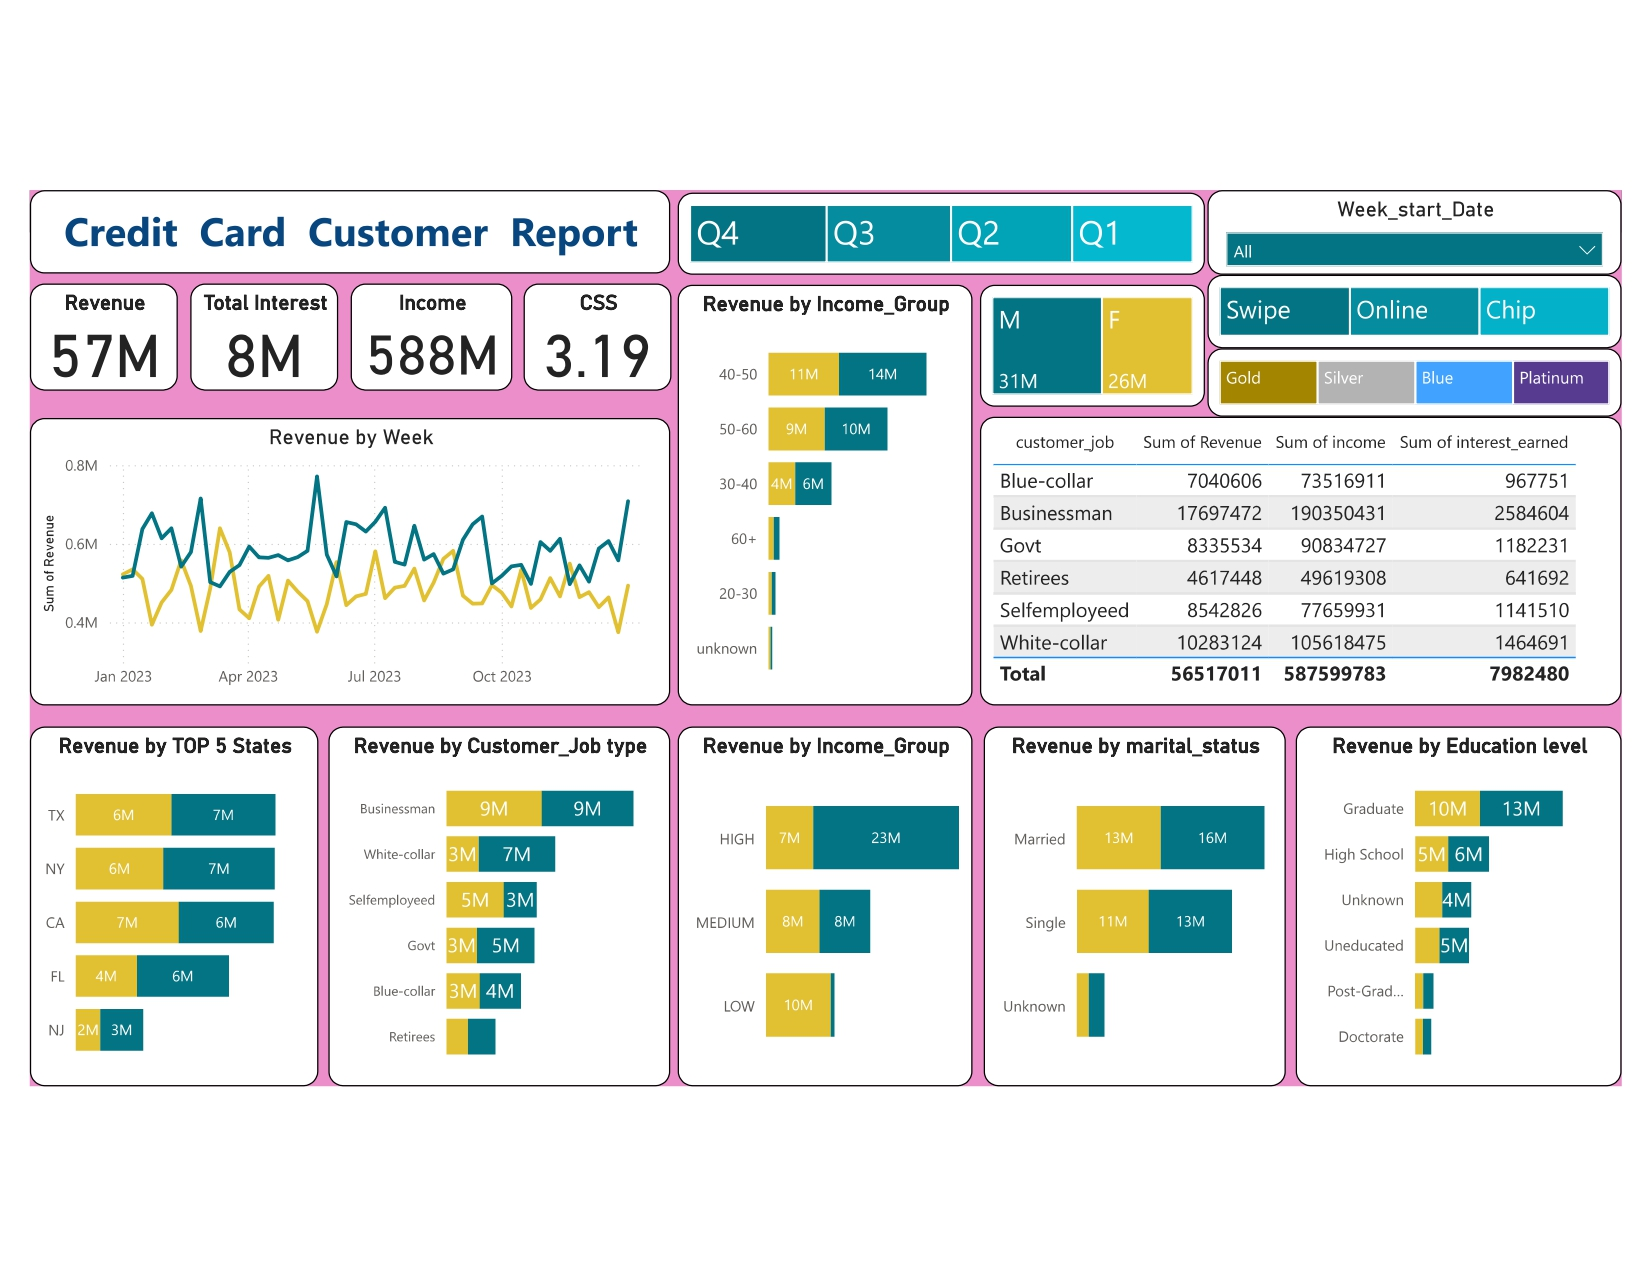

Layout of this report page (visuals, bound fields, positions):
{"tool":"powerbi","page":{"name":"CC Customer","canvas":[1280,720],"ordinal":1},"visuals":[{"type":"textbox","box":[0,0,514.6,67.2],"z":0},{"type":"tableEx","fields":{"Values":["public cust_detail.customer_job","Sum(public cc_detail.Revenue)","Sum(public cust_detail.income)","Sum(public cc_detail.interest_earned)"]},"box":[763.7,182.2,516.4,231.6],"z":1000},{"type":"card","title":"Revenue","fields":{"Values":["Sum(public cc_detail.Revenue)"]},"box":[0,75.5,119.4,85.1],"z":2000},{"type":"card","title":"Total Interest","fields":{"Values":["Sum(public cc_detail.interest_earned)"]},"box":[129,75.5,119.4,85.1],"z":3000},{"type":"card","title":"Income","fields":{"Values":["Sum(public cust_detail.income)"]},"box":[258,75.5,130.4,85.1],"z":4000},{"type":"card","title":"CSS","fields":{"Values":["Avg(public cust_detail.cust_satisfaction_score)"]},"box":[396.6,75.5,119.4,85.1],"z":5000},{"type":"barChart","title":"Revenue by marital_status","fields":{"Y":["Sum(public cc_detail.Revenue)"],"Category":["public cust_detail.marital_status"],"Series":["public cust_detail.gender"]},"box":[767.3,430.7,242.5,289.5],"z":6000},{"type":"treemap","fields":{"Group":["public cc_detail.qtr"],"Values":["Avg(public cc_detail.client_num)"]},"box":[521.2,2.4,423.5,65.1],"z":7000},{"type":"treemap","fields":{"Group":["public cc_detail.card_category"],"Values":["Avg(public cc_detail.client_num)"]},"box":[947.1,126.7,333,55.5],"z":9000},{"type":"treemap","fields":{"Group":["public cc_detail.use_chip"],"Values":["Avg(public cc_detail.client_num)"]},"box":[947.1,67.6,333,59.1],"z":10000},{"type":"slicer","title":"Week_start_Date","fields":{"Values":["public cc_detail.week_start_date"]},"box":[947.1,0,333,67.6],"z":11000},{"type":"lineChart","title":"Revenue by Week","fields":{"Y":["Sum(public cc_detail.Revenue)"],"Series":["public cust_detail.gender"],"Category":["public cc_detail.week_start_date.Variation.Date Hierarchy.Year","public cc_detail.week_start_date.Variation.Date Hierarchy.Month","public cc_detail.week_start_date.Variation.Date Hierarchy.Day"]},"box":[0,182.5,514.6,231.9],"z":12000},{"type":"treemap","fields":{"Group":["public cust_detail.gender"],"Values":["Sum(public cc_detail.Revenue)"]},"box":[763.7,76,181,97.7],"z":13000},{"type":"barChart","title":"Revenue by Education level","fields":{"Y":["Sum(public cc_detail.Revenue)"],"Category":["public cust_detail.education_level"],"Series":["public cust_detail.gender"]},"box":[1018.2,430.7,261.8,289.5],"z":14000},{"type":"barChart","title":"Revenue by Customer_Job type","fields":{"Y":["Sum(public cc_detail.Revenue)"],"Category":["public cust_detail.customer_job"],"Series":["public cust_detail.gender"]},"box":[240.1,430.7,275.1,289.5],"z":15000},{"type":"barChart","title":"Revenue by Income_Group","fields":{"Y":["Sum(public cc_detail.Revenue)"],"Category":["public cust_detail.IncomeGroup"],"Series":["public cust_detail.gender"]},"box":[521.2,430.7,236.5,289.5],"z":16000},{"type":"barChart","title":"Revenue by TOP 5 States","fields":{"Y":["Sum(public cc_detail.Revenue)"],"Category":["public cust_detail.state_cd"],"Series":["public cust_detail.gender"]},"box":[0,430.7,231.6,289.5],"z":17000},{"type":"barChart","title":"Revenue by Income_Group","fields":{"Y":["Sum(public cc_detail.Revenue)"],"Category":["public cust_detail.AgeGroup"],"Series":["public cust_detail.gender"]},"box":[521.2,76,236.5,337.8],"z":18000}]}

Visuals, with their boxes in screenshot pixels (x1, y1, x2, y2):
textbox: detection(39, 193, 670, 276)
tableEx - public cust_detail.customer_job x Sum(public cc_detail.Revenue): detection(975, 417, 1608, 701)
"Revenue" card: detection(39, 286, 185, 390)
"Total Interest" card: detection(197, 286, 343, 390)
"Income" card: detection(355, 286, 515, 390)
"CSS" card: detection(525, 286, 671, 390)
"Revenue by marital_status" barChart: detection(980, 721, 1277, 1076)
treemap - public cc_detail.qtr x Avg(public cc_detail.client_num): detection(678, 196, 1197, 276)
treemap - public cc_detail.card_category x Avg(public cc_detail.client_num): detection(1200, 349, 1608, 417)
treemap - public cc_detail.use_chip x Avg(public cc_detail.client_num): detection(1200, 276, 1608, 349)
"Week_start_Date" slicer: detection(1200, 193, 1608, 276)
"Revenue by Week" lineChart: detection(39, 417, 670, 701)
treemap - public cust_detail.gender x Sum(public cc_detail.Revenue): detection(975, 287, 1197, 406)
"Revenue by Education level" barChart: detection(1287, 721, 1608, 1076)
"Revenue by Customer_Job type" barChart: detection(333, 721, 670, 1076)
"Revenue by Income_Group" barChart: detection(678, 721, 968, 1076)
"Revenue by TOP 5 States" barChart: detection(39, 721, 323, 1076)
"Revenue by Income_Group" barChart: detection(678, 287, 968, 701)
